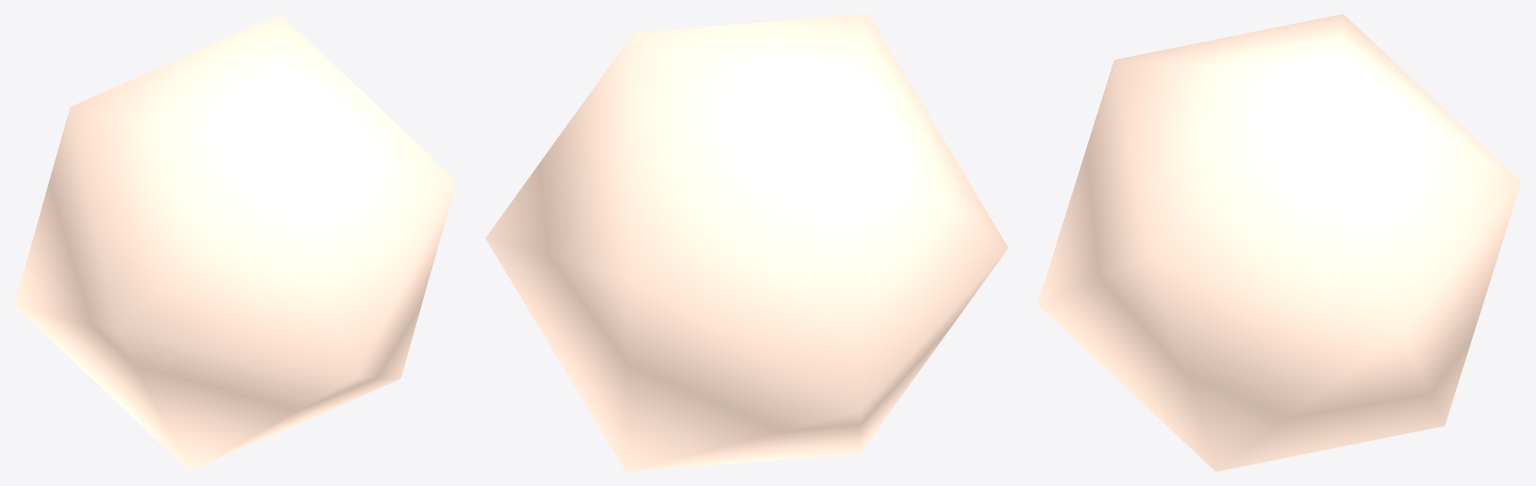
File: rock03.fbx
3 views of the same model, side by side, from view 1: azimuth 30°, elevation 25°; view 2: azimuth 150°, elevation 25°; view 3: azimuth 270°, elevation 25° (orthographic). The views are drawn at different scales.
Parts seen in each view (by area): view 1: rock03; view 2: rock03; view 3: rock03.
Boxes of the visible parts, left/top/right/bottom form: rock03: left=14, top=14, right=456, bottom=471; rock03: left=485, top=14, right=1008, bottom=471; rock03: left=1037, top=14, right=1521, bottom=471.
Size of the model in its own units: 10.09 by 10.46 by 11.22.
